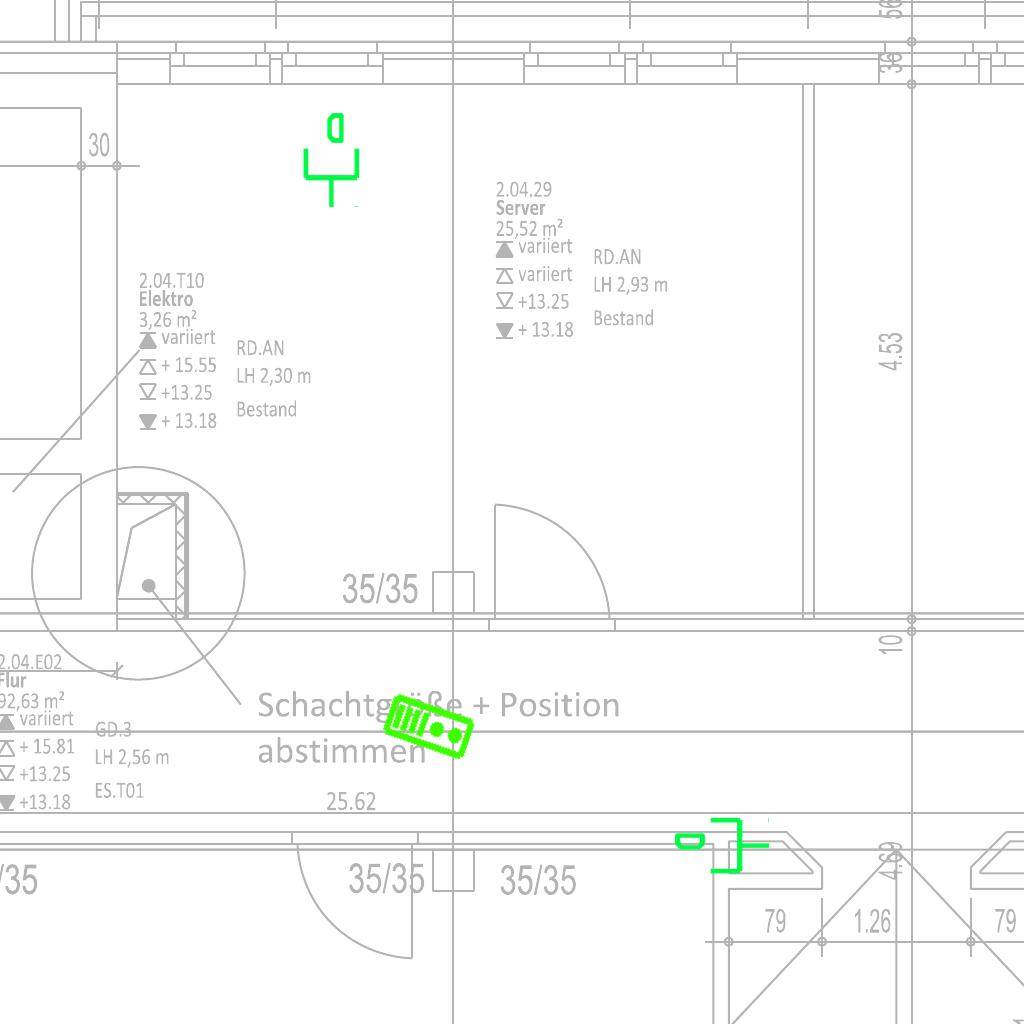Datenanschluss_einfach: (672, 813, 772, 882), (295, 110, 364, 210)
Gegensprechanlage_mit_Video: (380, 689, 479, 763)
